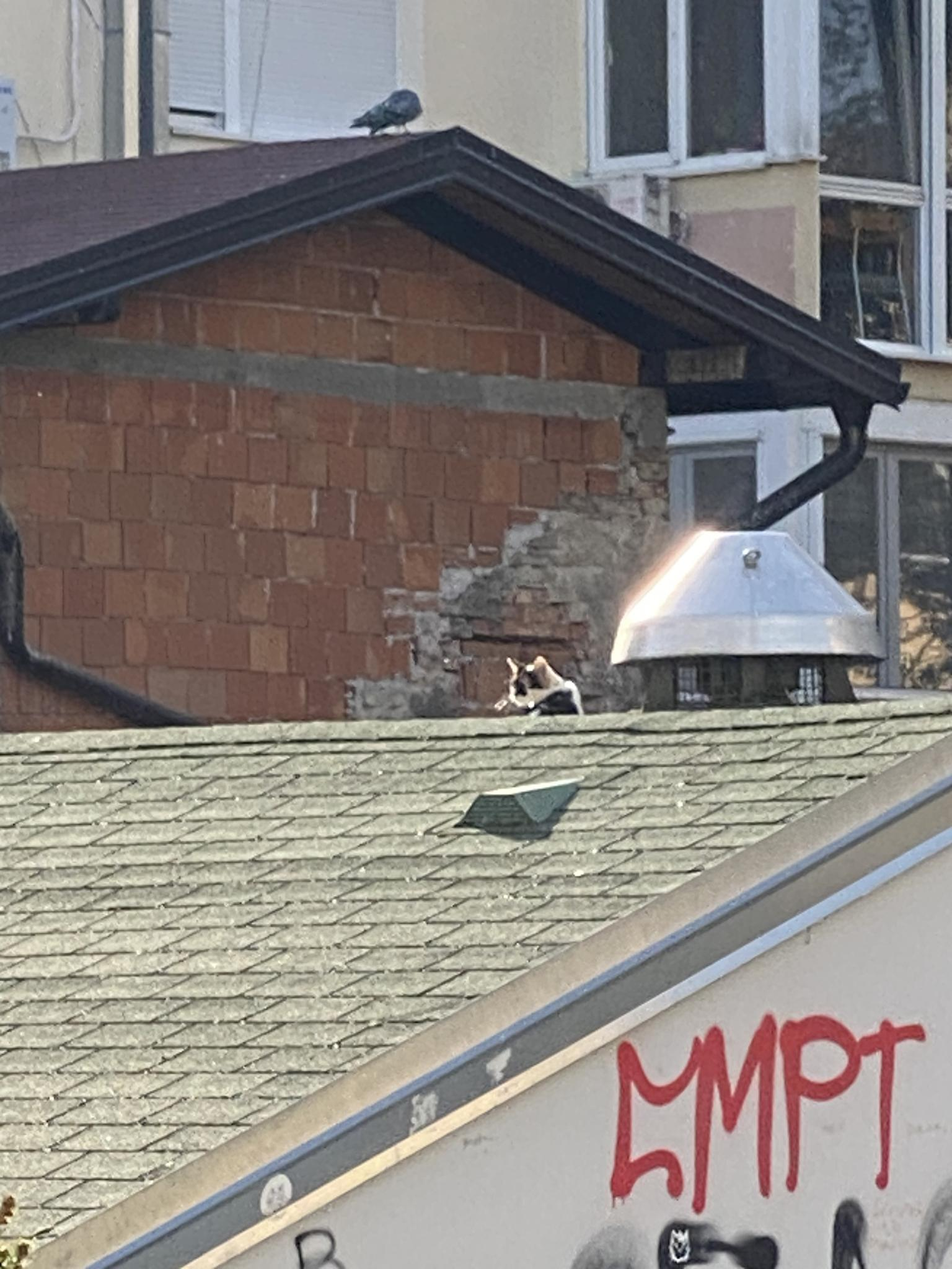macka: (505, 656, 584, 716)
